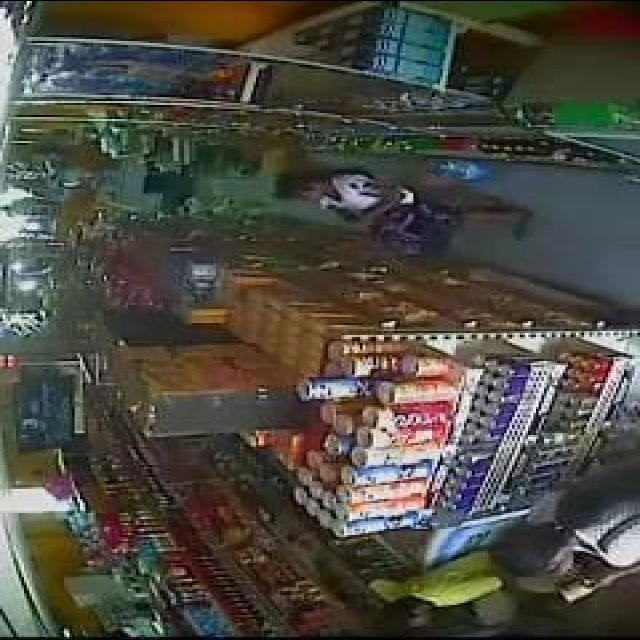Shoplifting: (245, 139, 578, 298)
